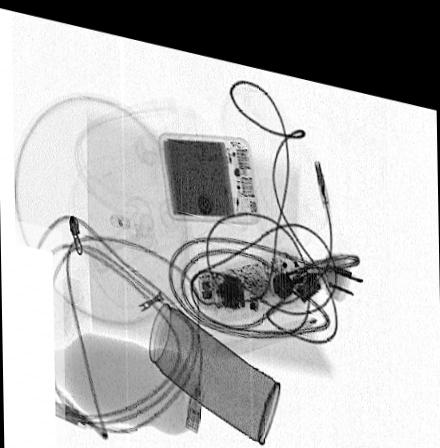Powerbank: (155, 124, 258, 212)
